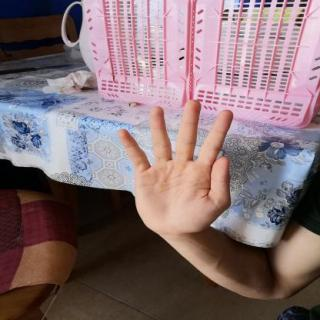SHEEN: (108, 94, 245, 243)
